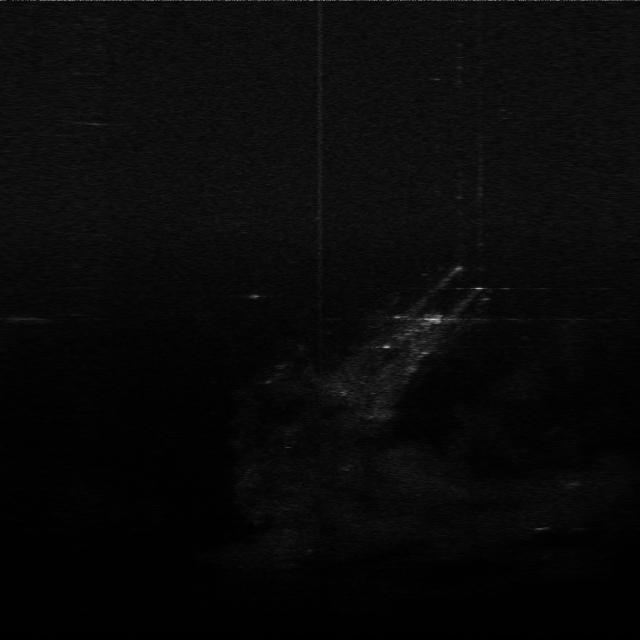rov: (422, 310, 447, 330)
